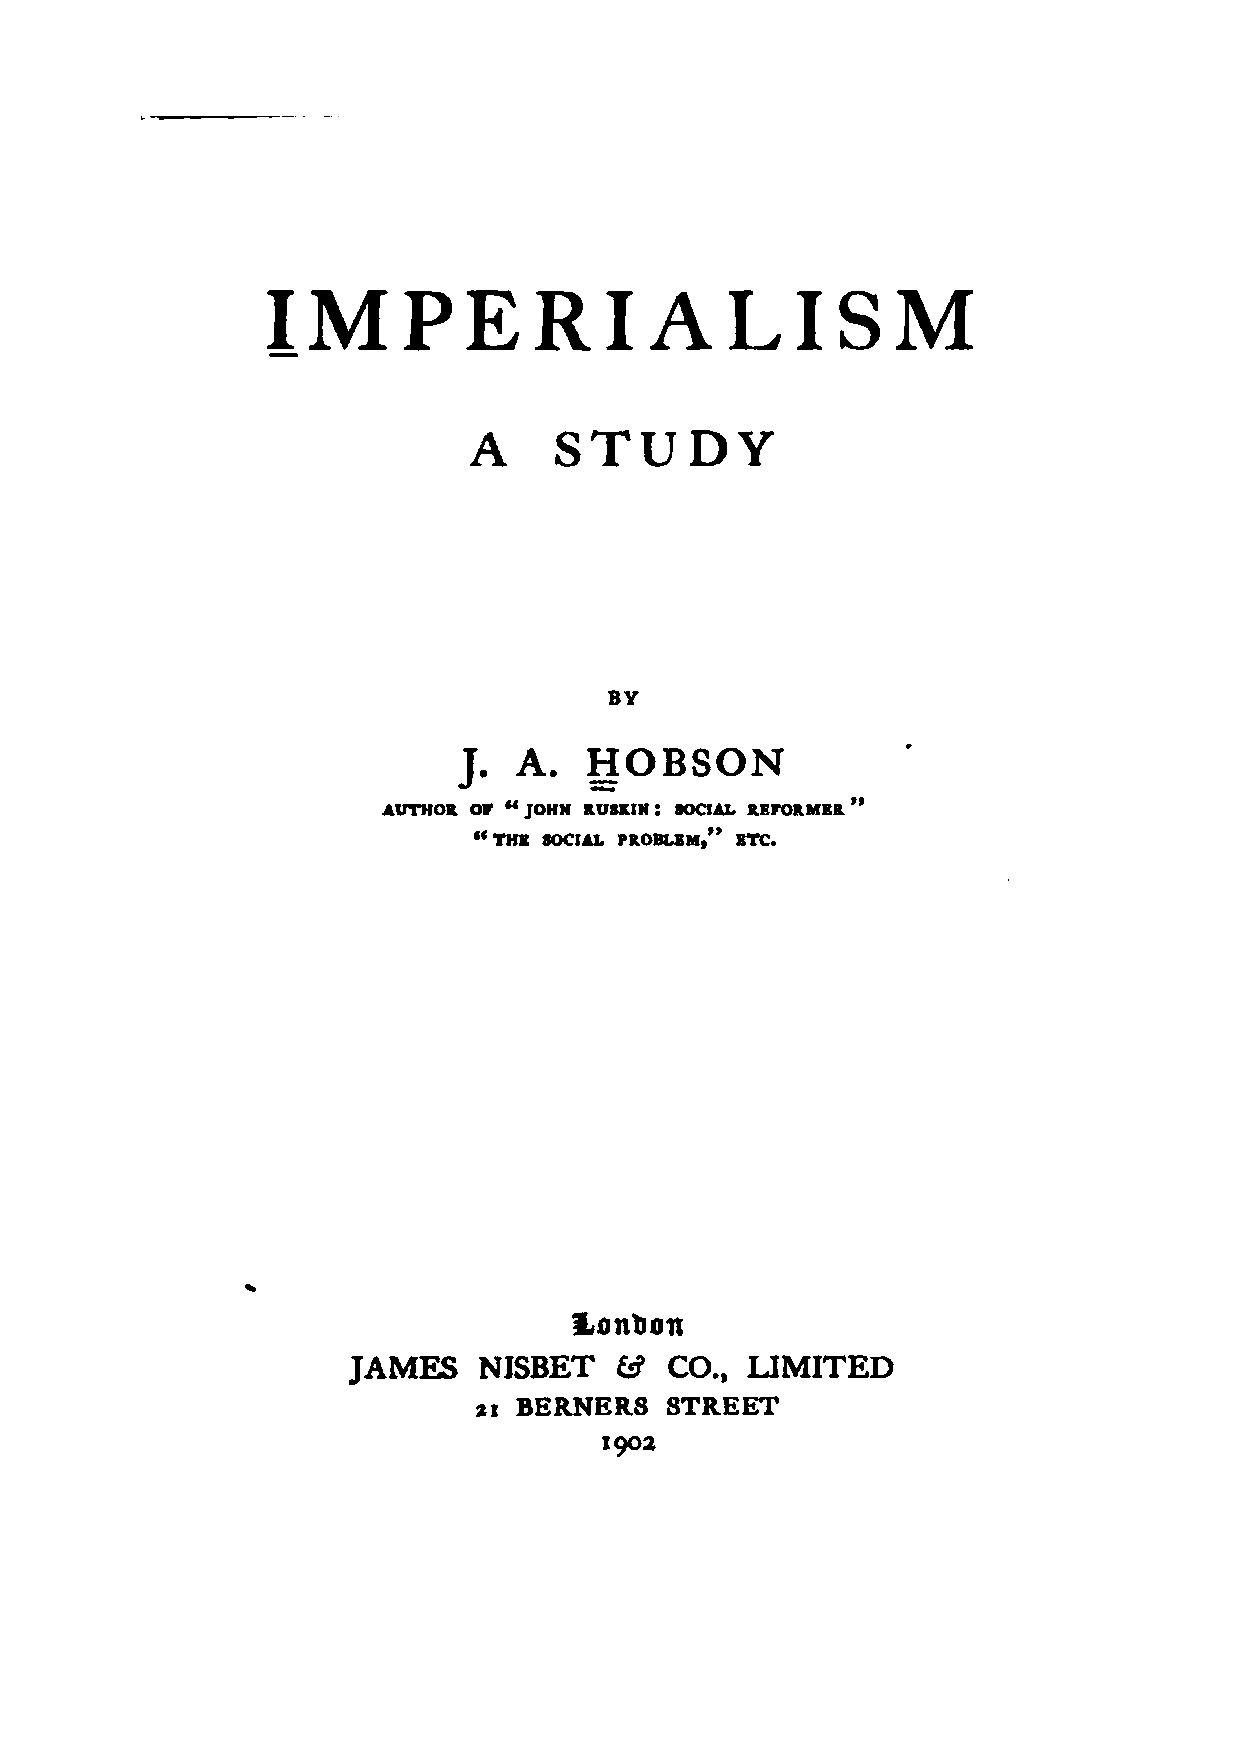author: (452, 687, 782, 790)
title: (258, 282, 978, 471)
